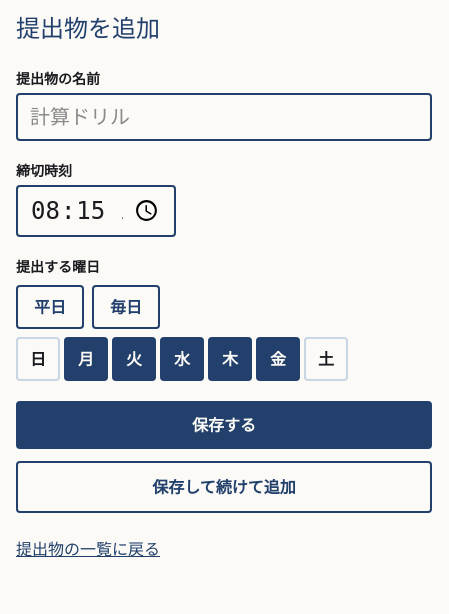
Test case: 入力の検証 › 曜日をすべて外すとエラーを出す
Type "日記" into the field labelled "提出物の名前".
click(224, 117); type("日記")  # box [16, 93, 432, 141]
Click the button "月".
click(86, 359)  # box [64, 337, 108, 381]
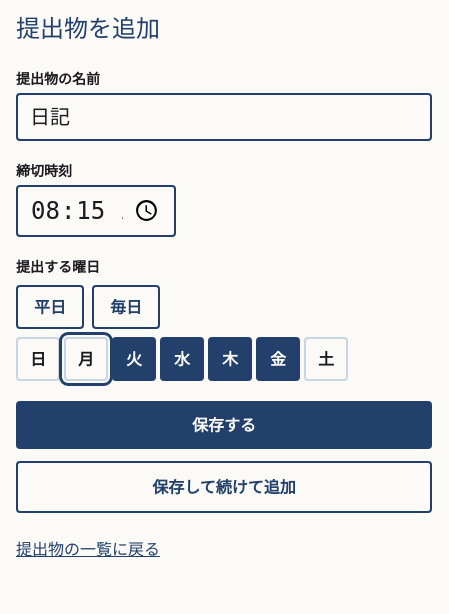
Click the button "火".
click(134, 359)  # box [112, 337, 156, 381]
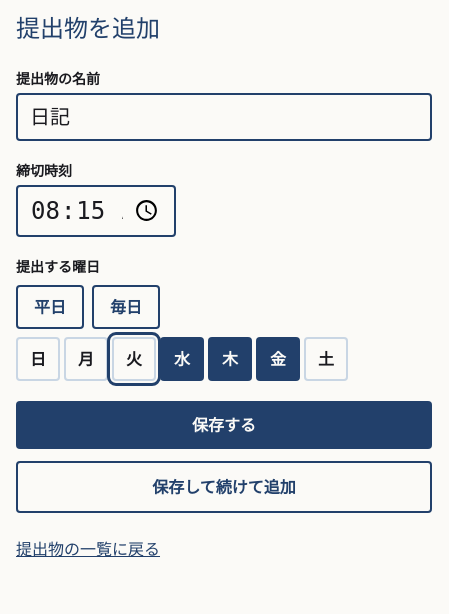
Click the button "水".
click(182, 359)  # box [160, 337, 204, 381]
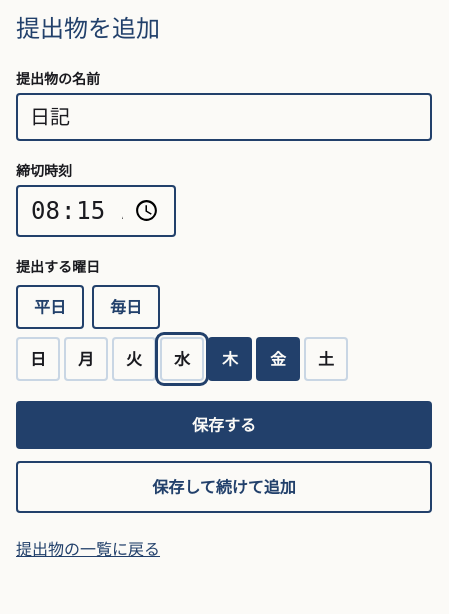
Click the button "木".
click(230, 359)  # box [208, 337, 252, 381]
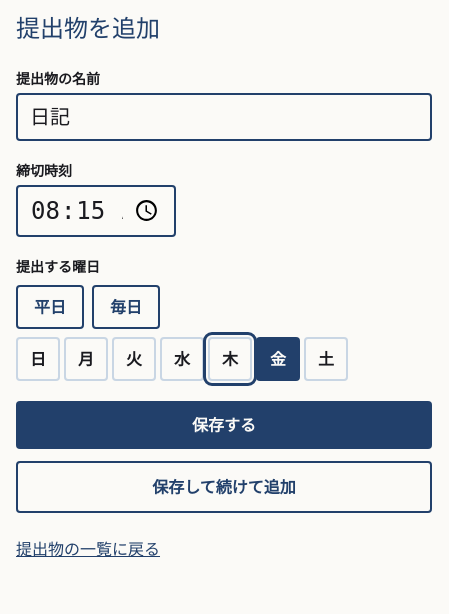
Click the button "金".
click(278, 359)  # box [256, 337, 300, 381]
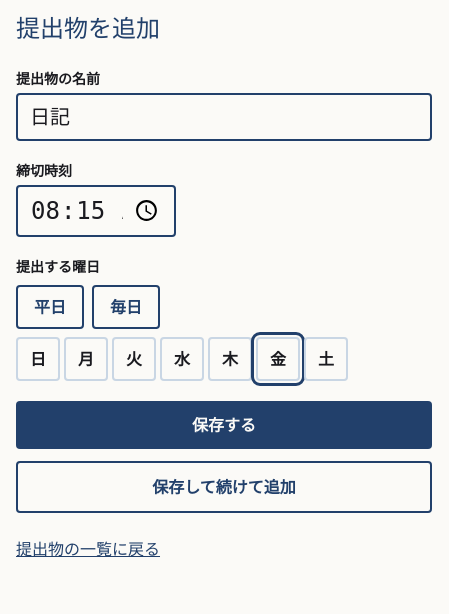
Click the button "保存する".
click(224, 425)  # box [16, 401, 432, 449]
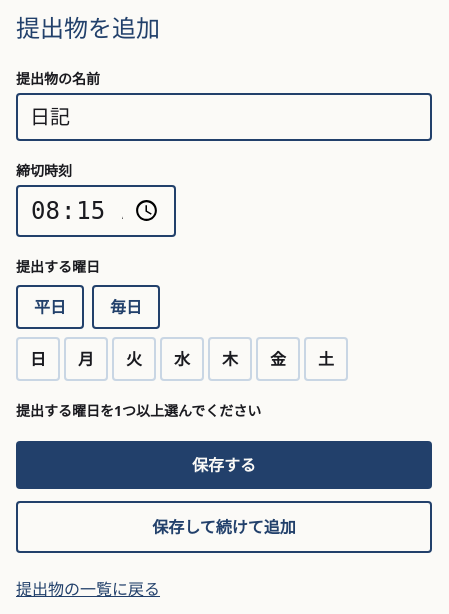
Expected: the text "提出する曜日を1つ以上選んでください" is shown, [16, 401, 261, 420]
